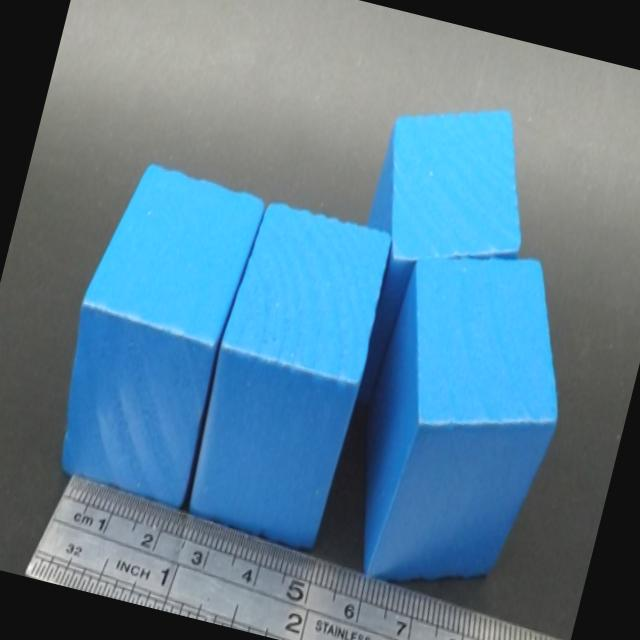bluecube: (188, 201, 392, 555), (60, 161, 266, 505), (365, 255, 560, 584), (356, 110, 520, 403)
